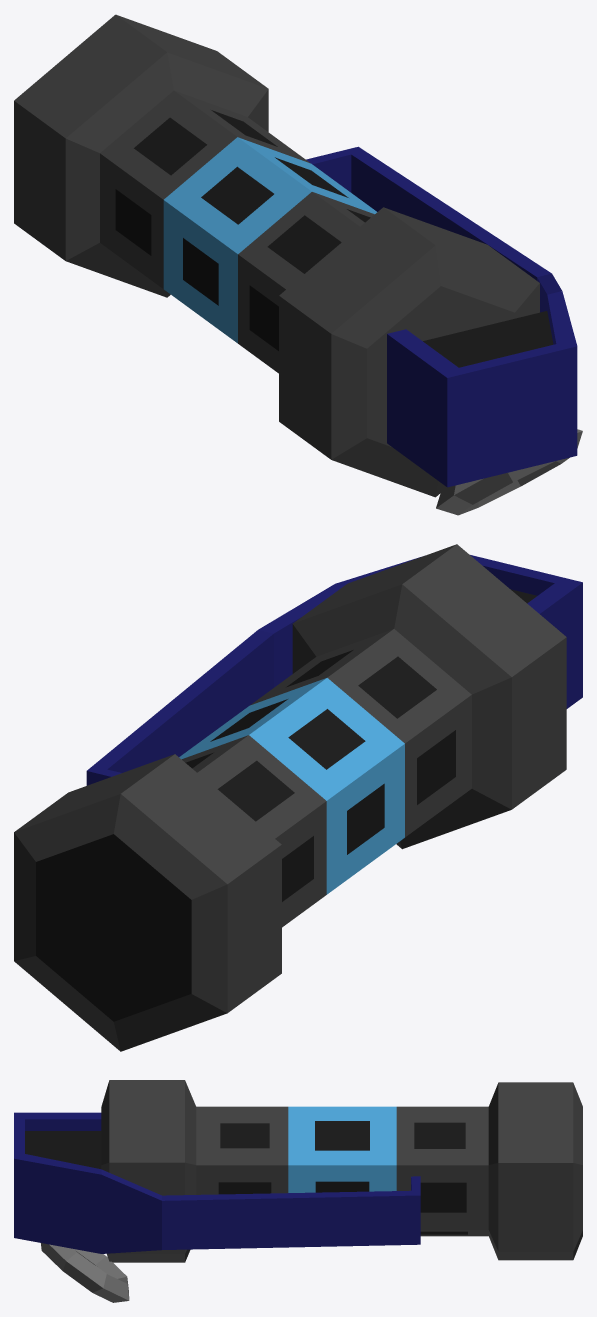
Rendered from BossFlashbang.glb.
3 renders of one model, top to bottom at view 1: azimuth 30°, elevation 25°; view 2: azimuth 150°, elevation 25°; view 3: azimuth 270°, elevation 25°, orthographic. The views are drawn at different scales.
Parts seen in each view (by area): view 1: FlashBang (1); view 2: FlashBang (1); view 3: FlashBang (1).
Part boxes in pixels (box(x1,y1,x2,y2)): FlashBang (1): box(14, 14, 582, 515); FlashBang (1): box(14, 544, 582, 1051); FlashBang (1): box(14, 1080, 582, 1302).
Bounding box in the file's own units: 0.2169 × 0.2219 × 0.5733.
Materials: 1 (1 with a texture image).
